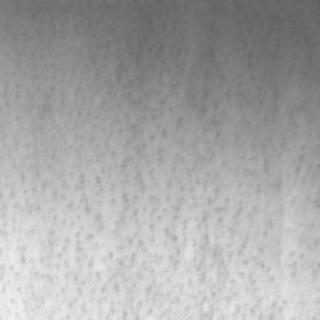pitted_surface: (8, 28, 272, 312), (83, 11, 281, 140)
